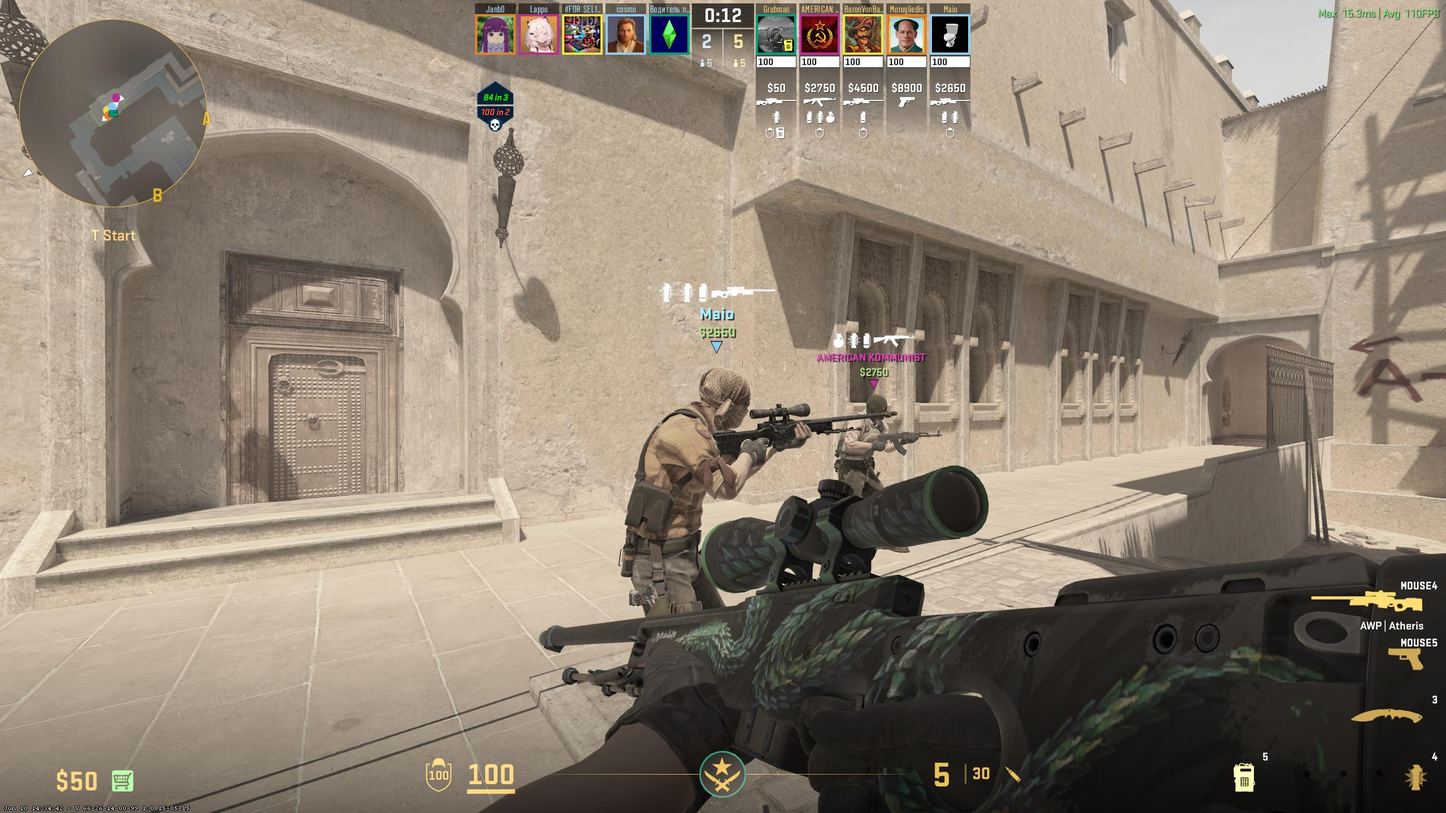Terrorist: (629, 374, 783, 613), (830, 394, 902, 514)
